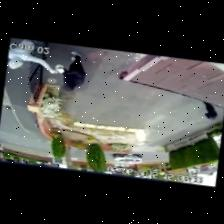person: (8, 39, 58, 73), (63, 51, 86, 91), (204, 102, 217, 119)
